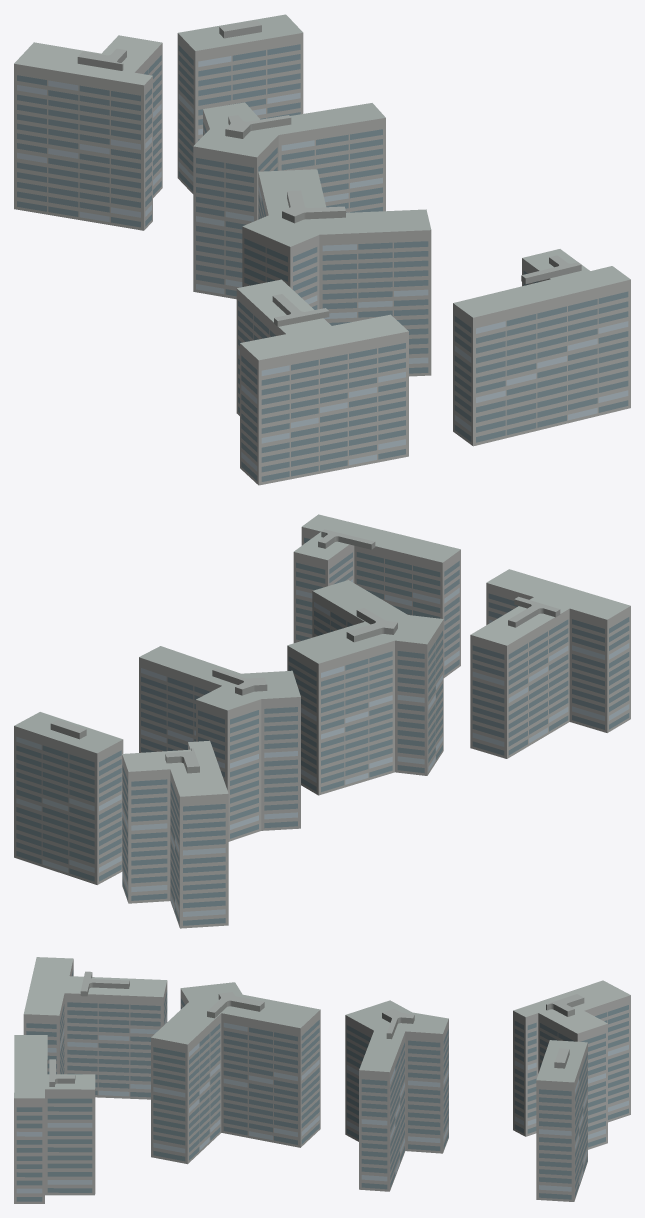
The model's file is apt-a12013002.glb.
3 views of the same model, one above another, from view 1: azimuth 30°, elevation 25°; view 2: azimuth 150°, elevation 25°; view 3: azimuth 270°, elevation 25° (orthographic). The views are drawn at different scales.
Parts seen in each view (by area): view 1: apt-a12013002; view 2: apt-a12013002; view 3: apt-a12013002.
Part boxes in pixels (box(x1,y1,x2,y2)): apt-a12013002: box(14, 14, 630, 485); apt-a12013002: box(14, 514, 630, 928); apt-a12013002: box(14, 957, 630, 1203).
Bounding box in the file's own units: 106 × 43 × 192.
